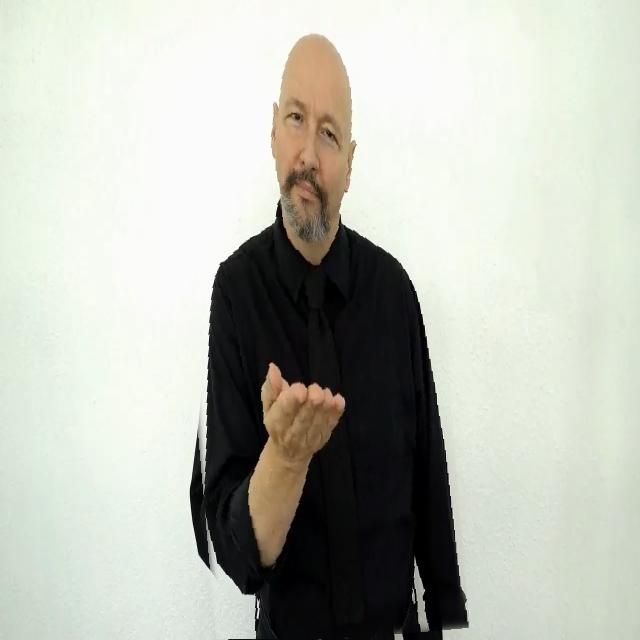ThankYou: (177, 26, 457, 640)
